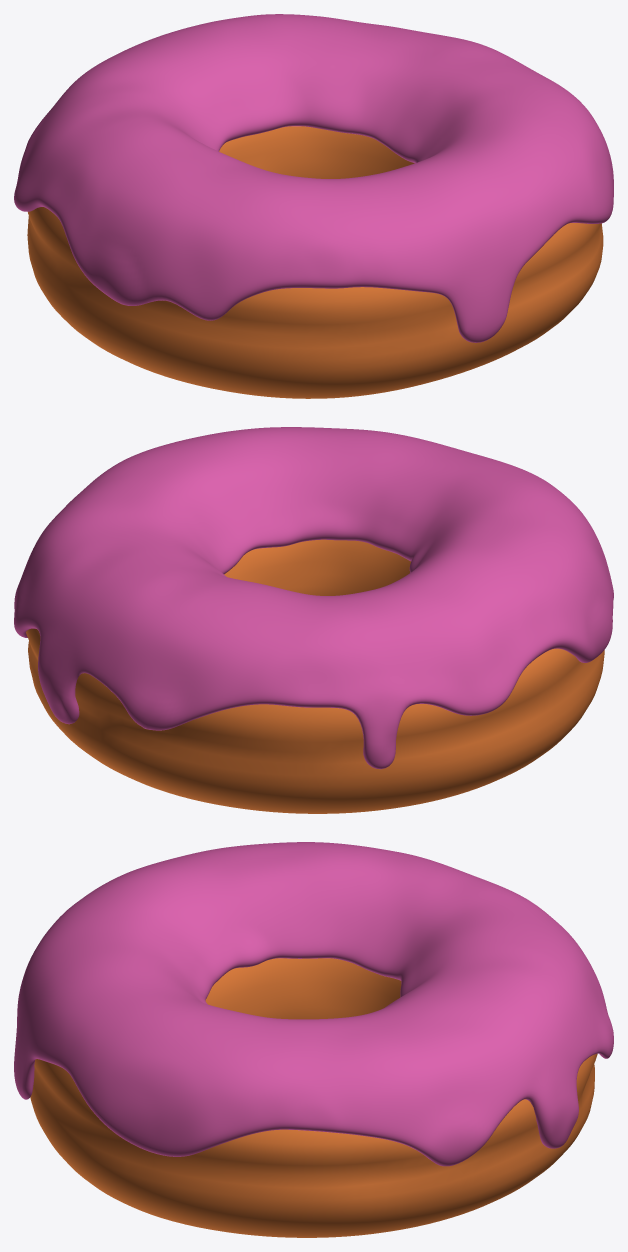
The model's file is Donut.fbx.
3 renders of one model, top to bottom at view 1: azimuth 30°, elevation 25°; view 2: azimuth 150°, elevation 25°; view 3: azimuth 270°, elevation 25°, orthographic.
Visible parts, largest first — view 1: Doughnut; view 2: Doughnut; view 3: Doughnut.
Part boxes in pixels (left/top/right/bottom): Doughnut: left=14, top=14, right=613, bottom=398; Doughnut: left=14, top=427, right=613, bottom=813; Doughnut: left=14, top=842, right=613, bottom=1237.
Size of what is drawn, in the model's own units: 14.73 by 14.53 by 5.73.
